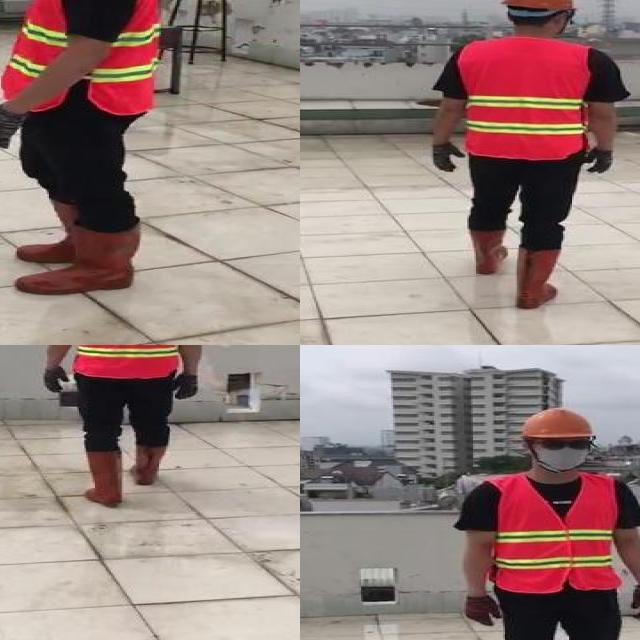boots: (19, 225, 138, 298), (11, 196, 117, 262), (515, 242, 561, 309), (83, 449, 127, 510), (466, 224, 512, 275), (131, 442, 166, 484)
face_mask: (533, 436, 594, 472)
glasses: (530, 435, 596, 453)
hand_glove: (462, 597, 505, 626), (426, 143, 466, 170), (0, 108, 22, 150), (172, 375, 198, 401), (42, 367, 66, 395), (585, 148, 611, 173), (633, 586, 640, 621)
head_helmet: (520, 405, 598, 441), (497, 0, 577, 15)
person: (421, 0, 631, 317), (0, 0, 178, 310), (445, 399, 640, 640)
vest: (0, 0, 160, 114), (458, 38, 584, 160), (492, 475, 620, 591), (75, 345, 183, 378)
